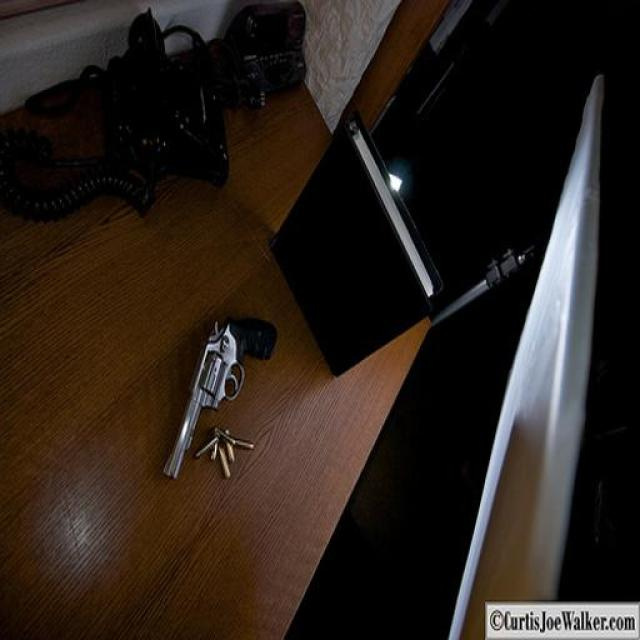pistol: (154, 315, 275, 487)
